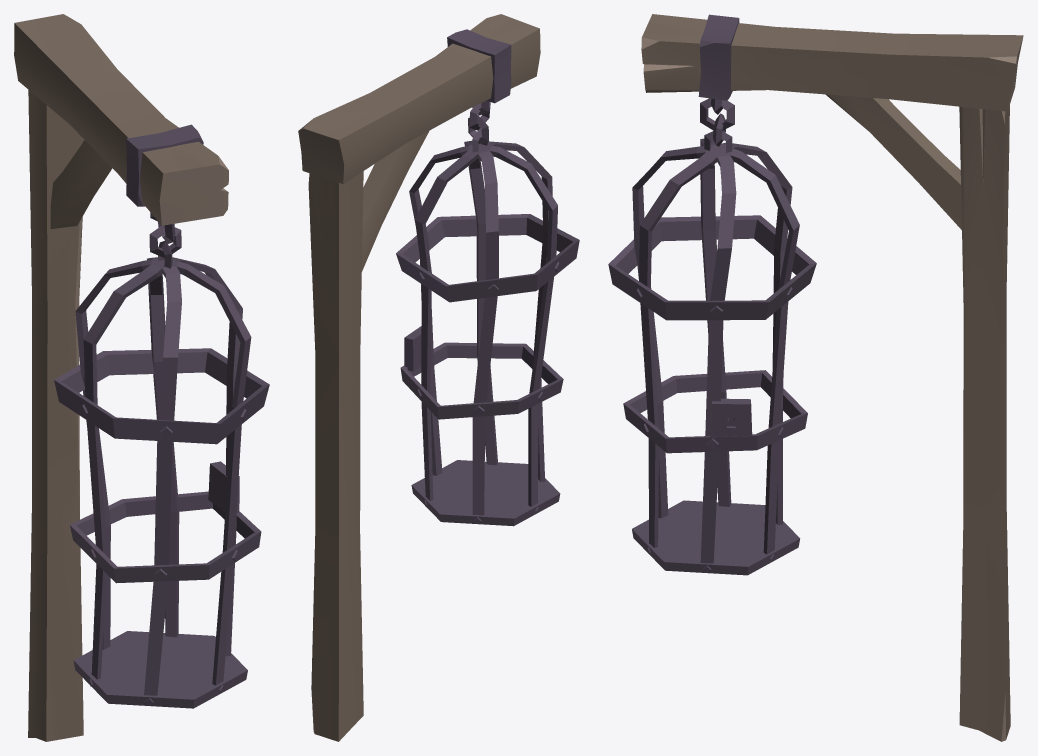
Rendered from cage_empty.glb.
3 views of the same model, side by side, from view 1: azimuth 30°, elevation 25°; view 2: azimuth 150°, elevation 25°; view 3: azimuth 270°, elevation 25° (orthographic). The views are drawn at different scales.
Parts seen in each view (by area): view 1: cage, Cube.008, Cube.001, Cube.000, Cylinder.026; view 2: cage, Cube.008, Cube.001, Cube.000, Cylinder.026; view 3: cage, Cube.008, Cube.001, Cube.000, Cylinder.026.
Part boxes in pixels (bbox=[...]): cage: bbox=[54, 222, 269, 708]; Cube.008: bbox=[28, 90, 84, 741]; Cube.001: bbox=[14, 14, 228, 225]; Cube.000: bbox=[50, 140, 112, 228]; Cylinder.026: bbox=[126, 124, 203, 221]; cage: bbox=[396, 101, 579, 526]; Cube.008: bbox=[308, 171, 363, 741]; Cube.001: bbox=[298, 14, 540, 183]; Cube.000: bbox=[362, 130, 429, 271]; Cylinder.026: bbox=[447, 29, 511, 115]; cage: bbox=[608, 98, 816, 575]; Cube.008: bbox=[959, 105, 1010, 741]; Cube.001: bbox=[641, 14, 1023, 111]; Cube.000: bbox=[825, 94, 961, 229]; Cylinder.026: bbox=[698, 14, 739, 114].
Size of the model in its own units: 6.63 by 27.15 by 14.8.
Materials: 2 (1 with a texture image).
